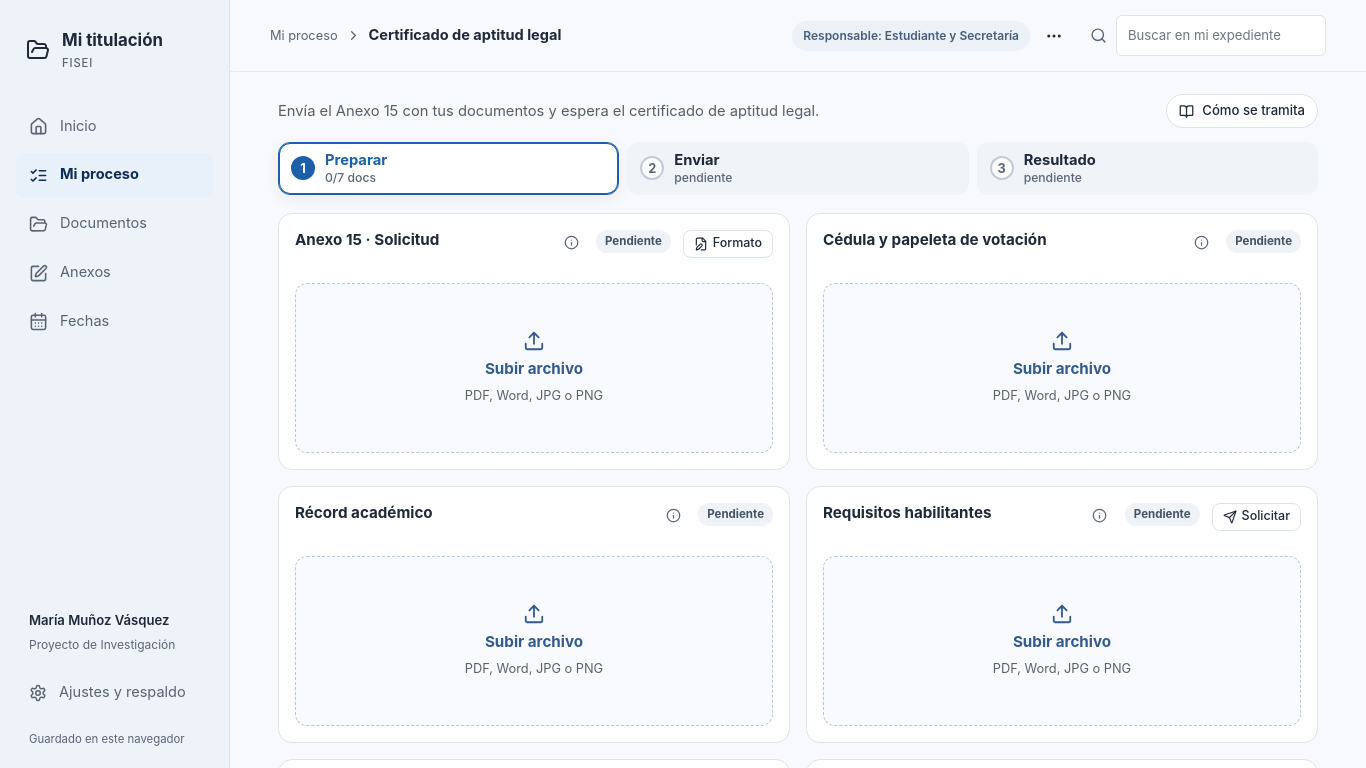
it: requests the enabling requirements certificate with a ready email and letter
This screenshot has width=1366, height=768.
Expected: the button "Cómo se tramita" is shown, top-left (1166, 94), bottom-right (1318, 128)
What coordinates should you click on to do the following:
click the button "Solicitar"
I would click on:
 (1256, 517)
Its box is top-left (1212, 503), bottom-right (1301, 531).
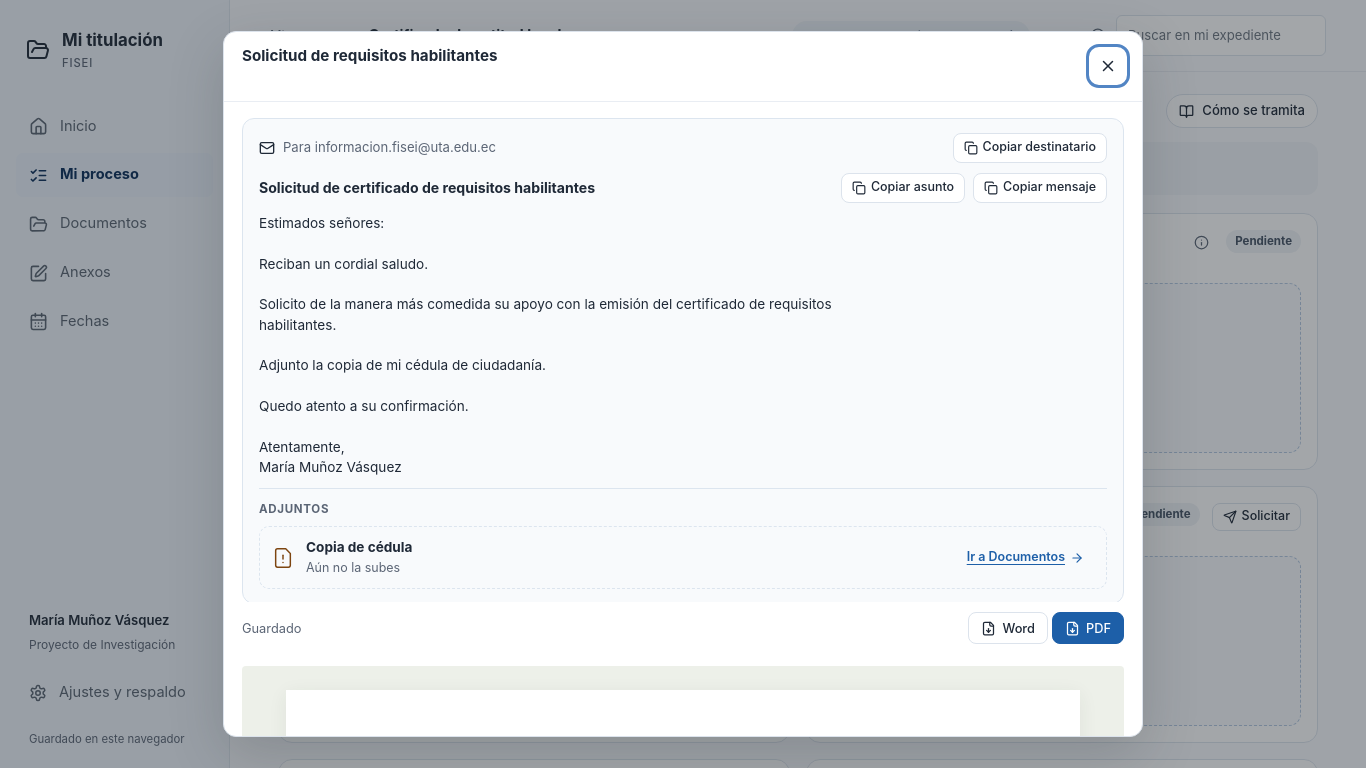
Result: the text "Solicitud de certificado de requisitos habilitantes" is shown at top-left (259, 179), bottom-right (595, 196)
Result: the text "Para informacion.fisei@uta.edu.ec" is shown at top-left (283, 139), bottom-right (496, 155)
What coordinates should you click on to do the following:
click the button "Copiar mensaje"
I would click on:
 (1040, 188)
Its box is top-left (973, 173), bottom-right (1107, 203).
(page scrolled)
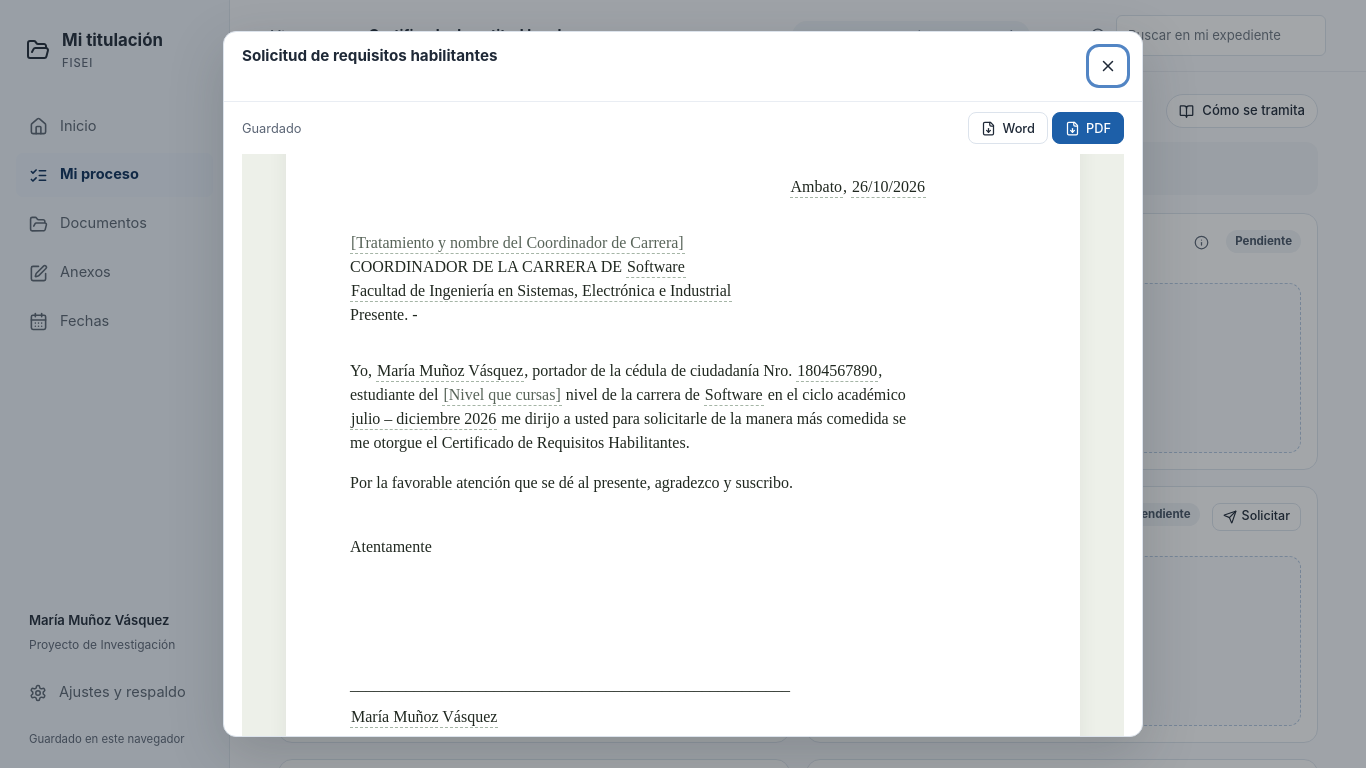
Result: the field named "Ciclo académico" reads "julio – diciembre 2026" at top-left (351, 410), bottom-right (496, 427)
